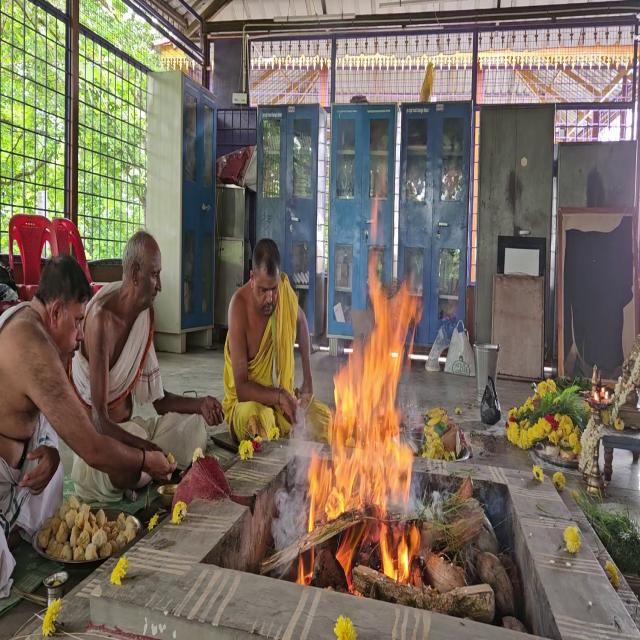fire: (302, 246, 424, 618)
